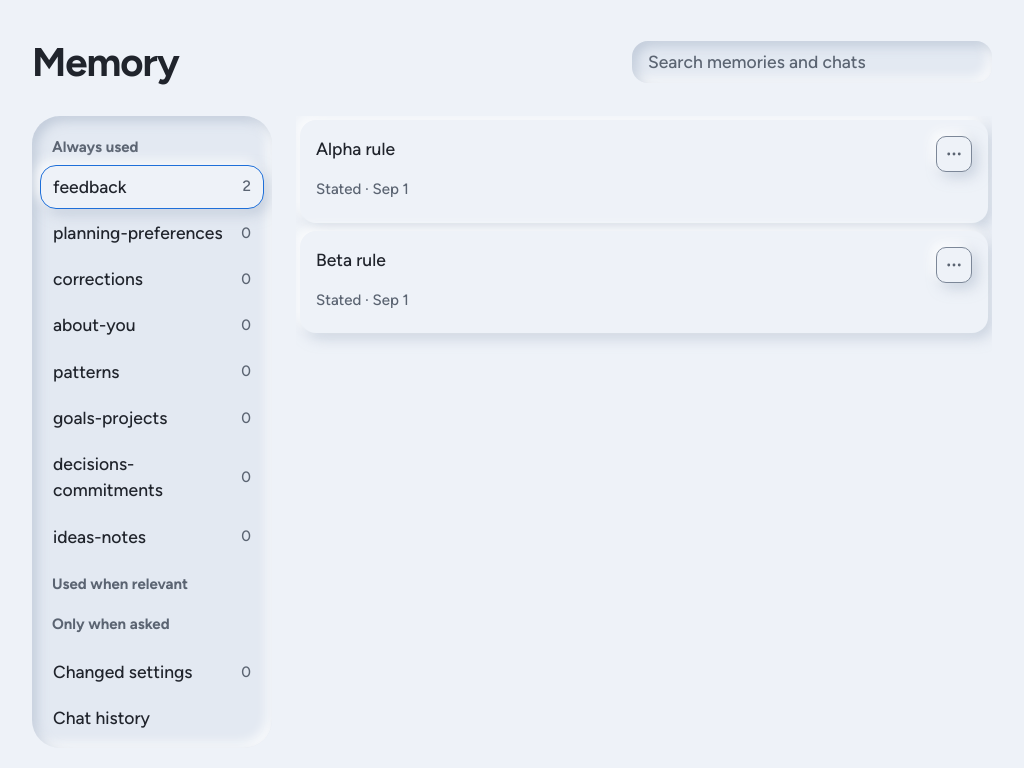
Scenario: Memory item delete flow › a second delete commits the first immediately
This screenshot has width=1024, height=768.
Check: the button "Alpha rule" is shown, box [316, 136, 892, 162]
Click the button named "More actions for Alpha rule" at (954, 154), box [936, 136, 972, 172]
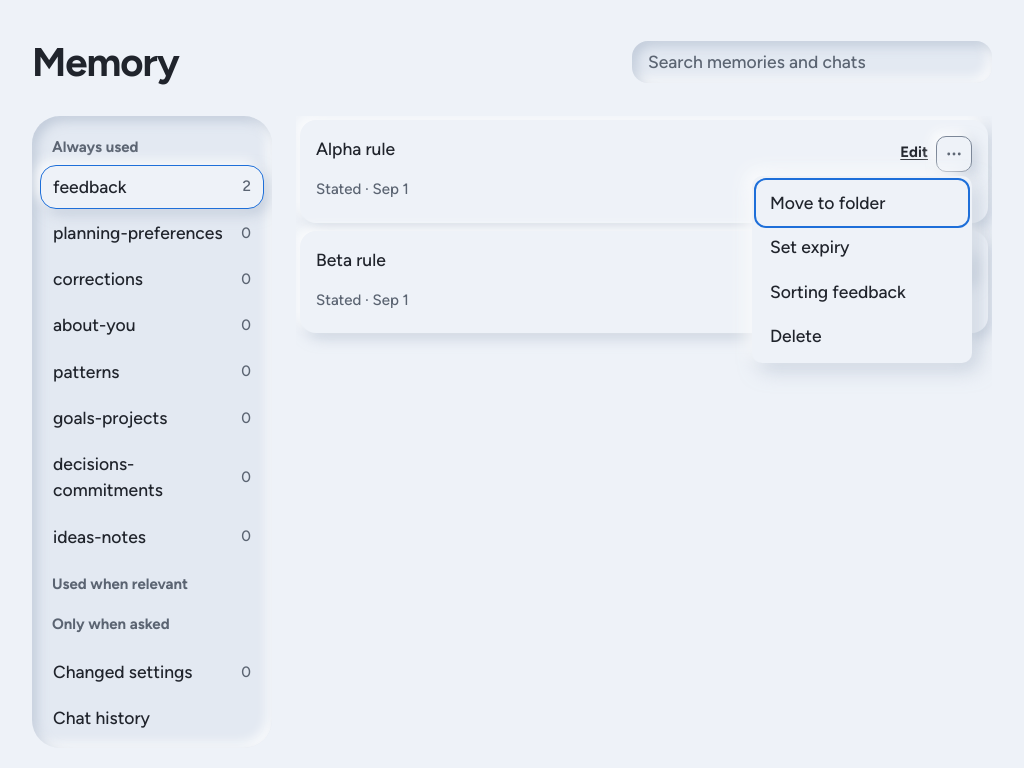
Click the menu item "Delete" at (862, 336), box [758, 315, 966, 357]
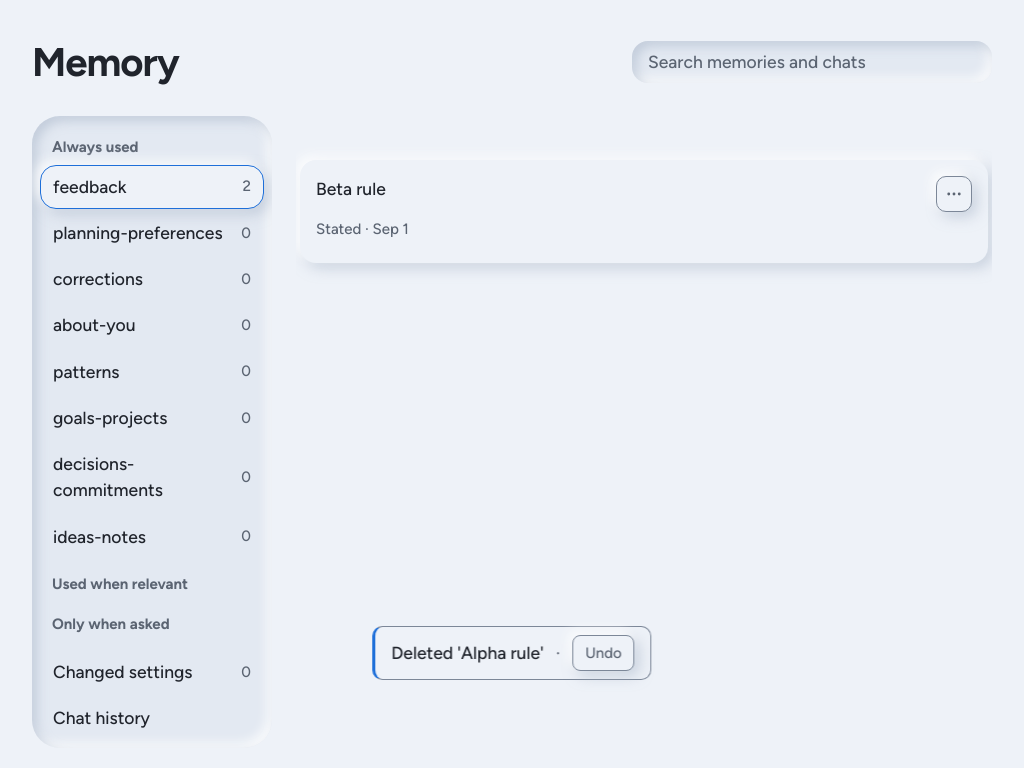
Click the button named "More actions for Beta rule" at (954, 194), box [936, 176, 972, 212]
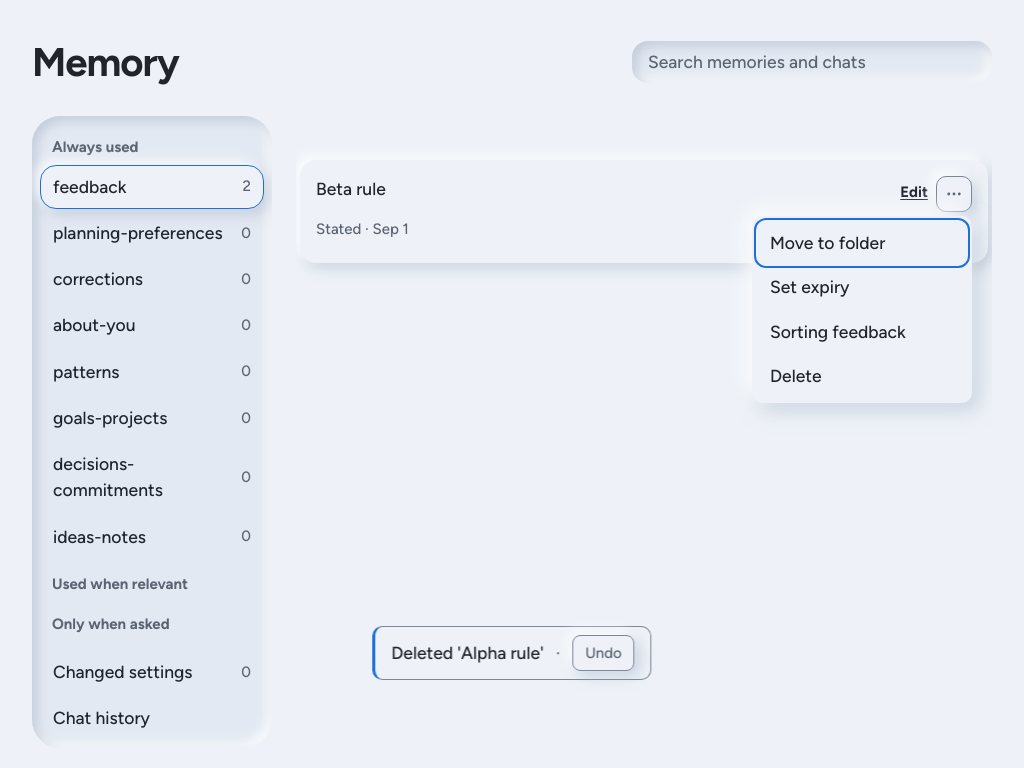
Click the menu item "Delete" at (862, 376), box [758, 355, 966, 397]
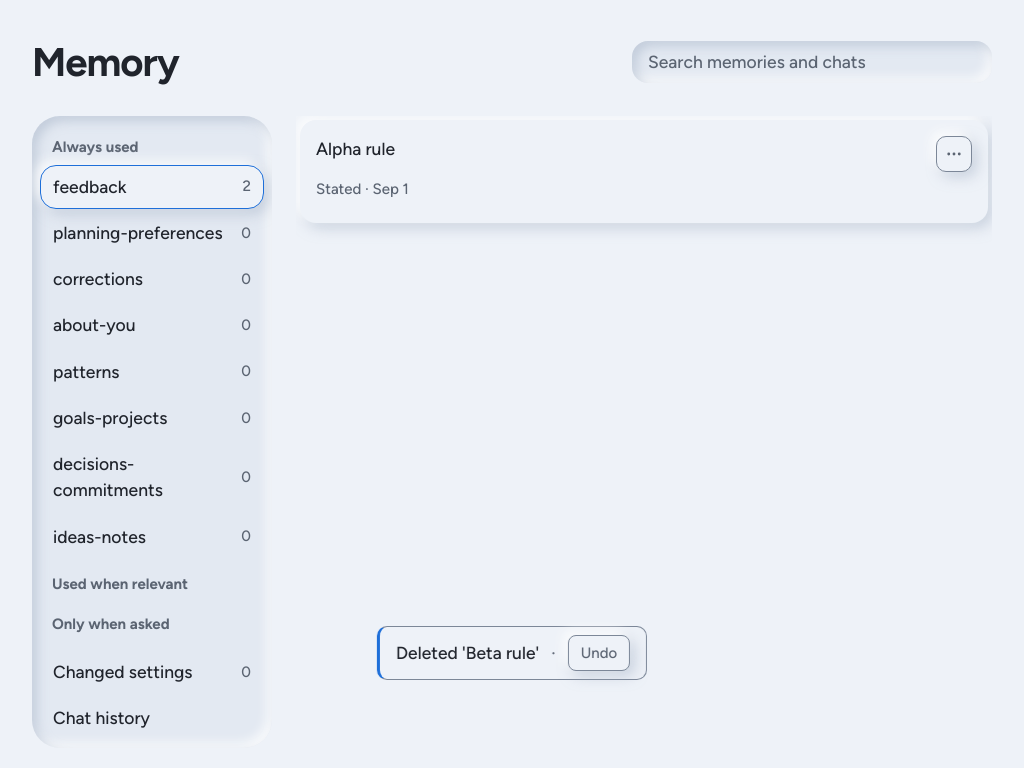
Check: the message with test id "undo-toast" shows "Deleted 'Beta rule'", box [396, 642, 539, 663]
